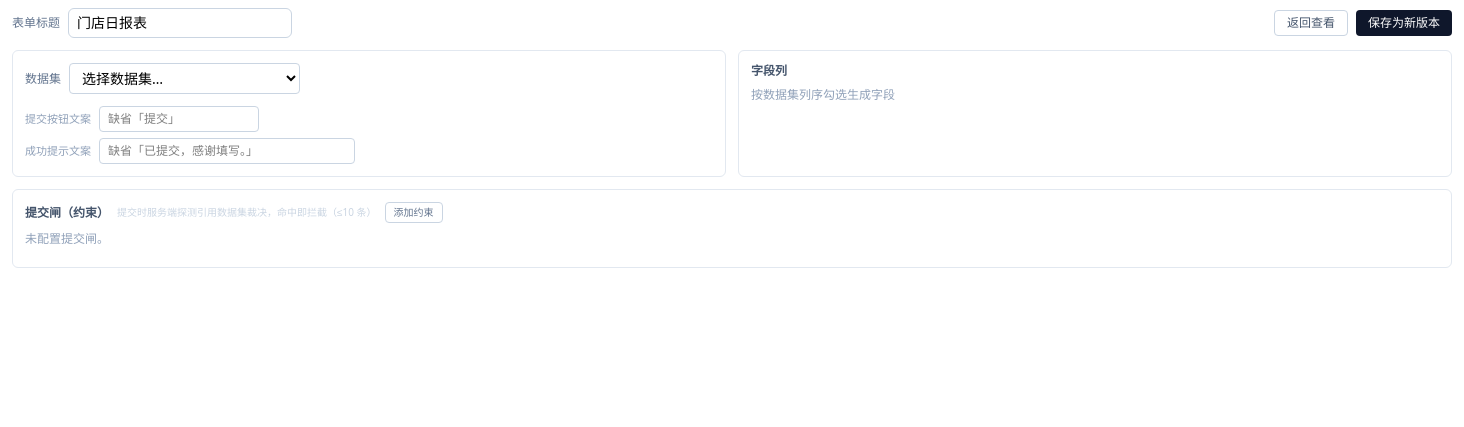
Test: FormEditor（构建器） › 结构自检零请求拦截：select 无 options 时错误呈现、不发 PUT；配齐后可存
This screenshot has width=1464, height=427.
Select "门店销量（轻量存储 · 120 行）" in the dropdown with test id "editor-form-dataset" at (184, 78), box [69,63,300,94]
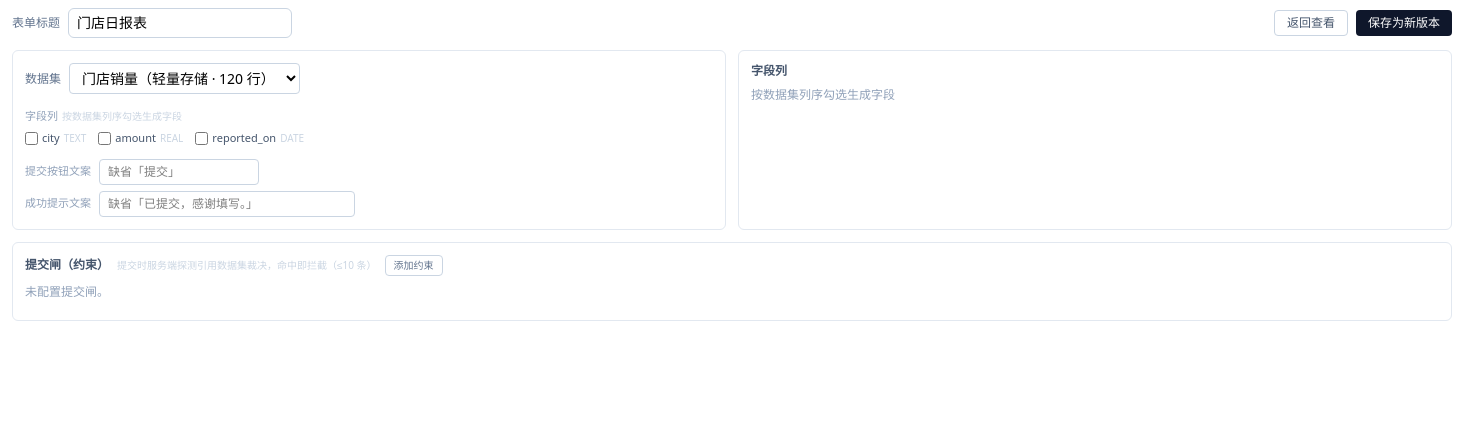
Click the checkbox with test id "editor-form-column" showing "city TEXT".
click(32, 138)  # box [25,132,38,145]
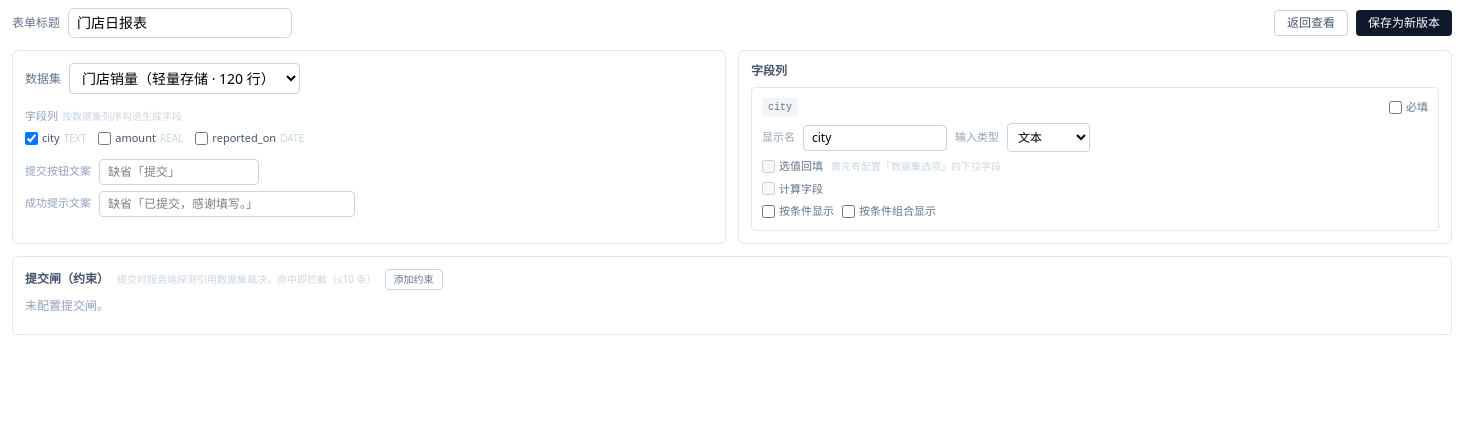
Select "下拉选择" in the dropdown with test id "editor-field-input" at (1048, 138), box [1007,123,1090,152]
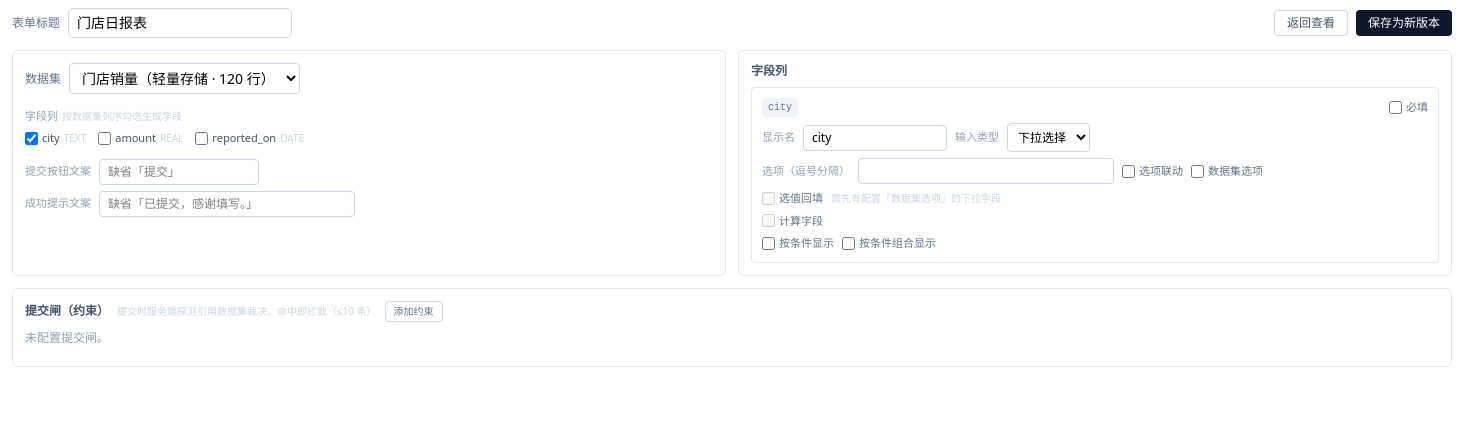
Click the button with test id "editor-form-save".
click(1404, 23)  # box [1356,10,1452,36]
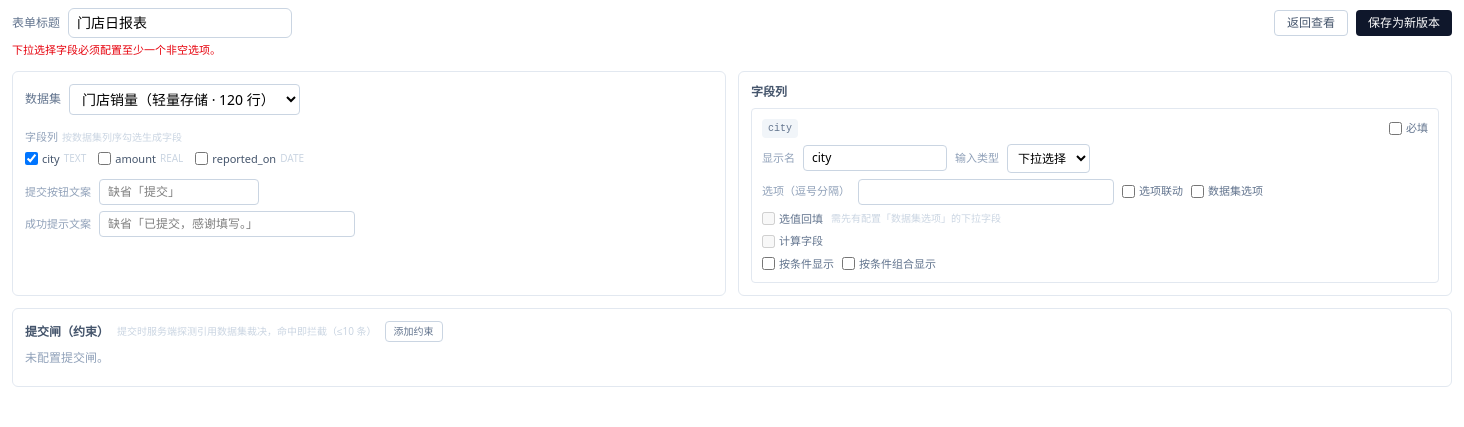
Now the list item with test id "editor-form-error" shows "下拉选择", box [12,42,221,57]
# 配齐选项后保存通过、错误清空
Type "上海, 北京" into the field with test id "editor-field-options".
click(986, 192); type("上海, 北京")  # box [858,178,1114,204]
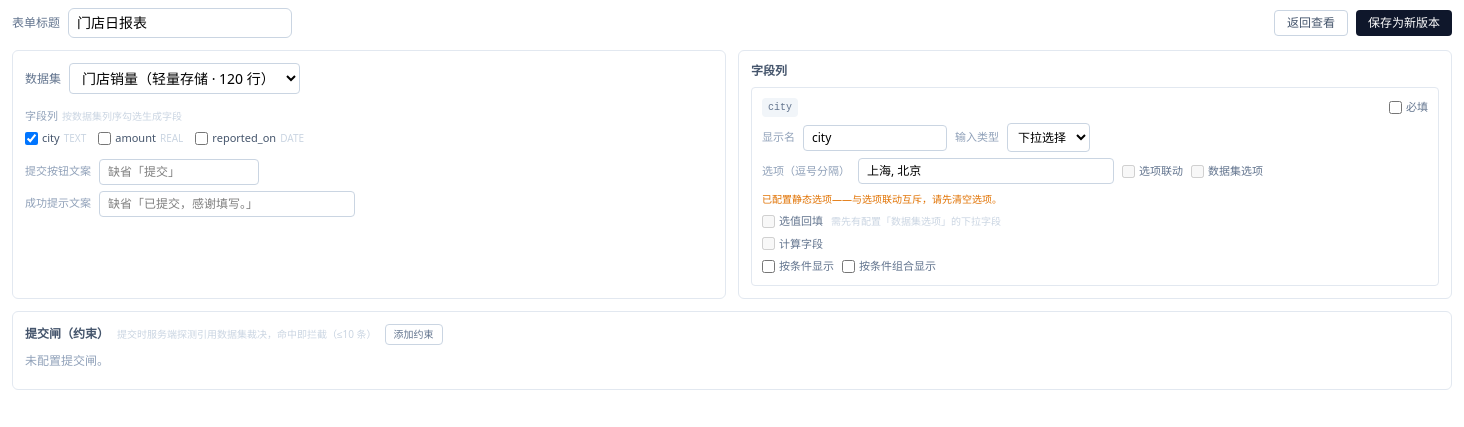
Click the button with test id "editor-form-save".
click(1404, 23)  # box [1356,10,1452,36]
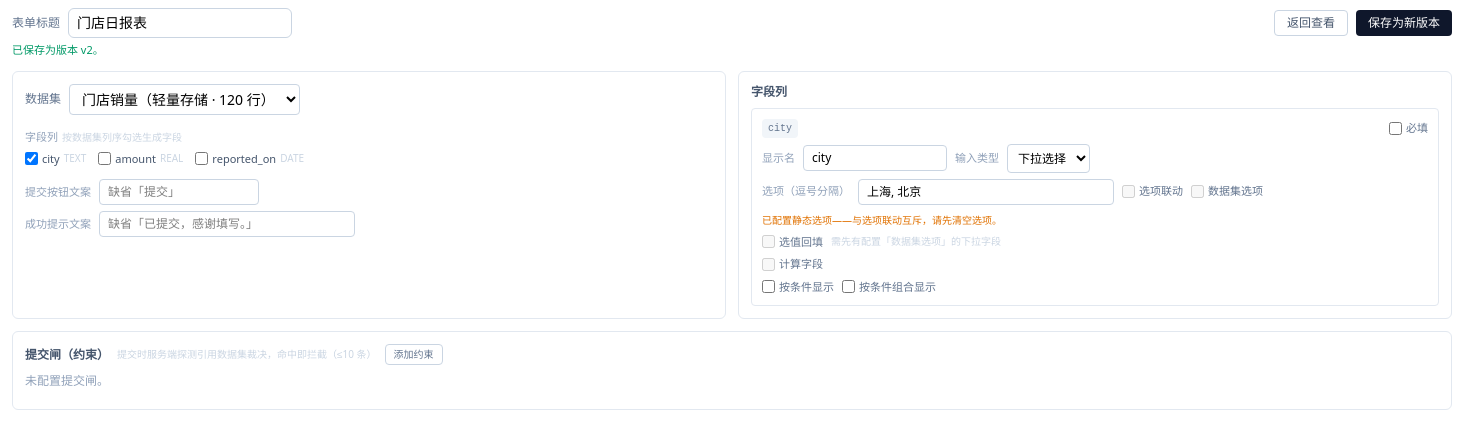
Now the text "已保存为版本 v2。" is shown, box [12,42,104,57]
